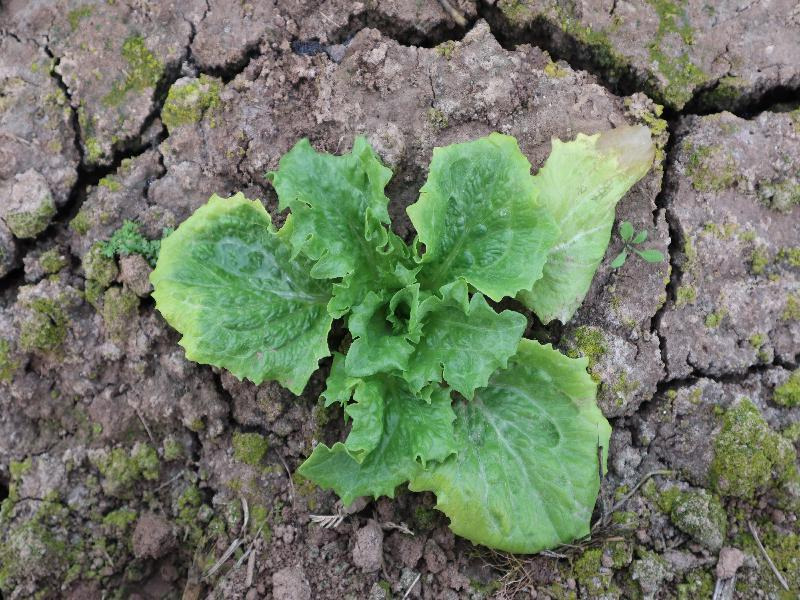lettuce: (150, 122, 654, 555)
